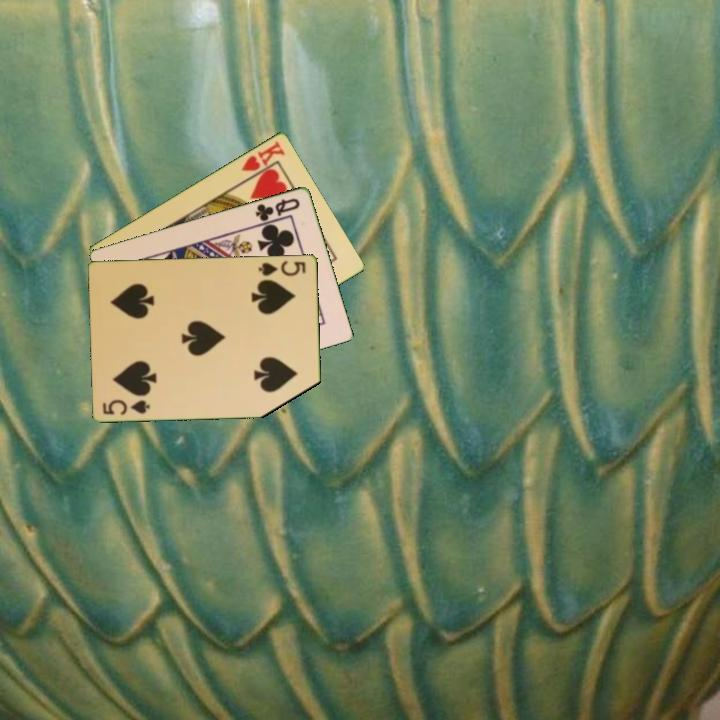5s: (255, 257, 309, 279), (99, 396, 153, 417)
Kh: (238, 137, 288, 183)
Qc: (252, 194, 303, 224)
